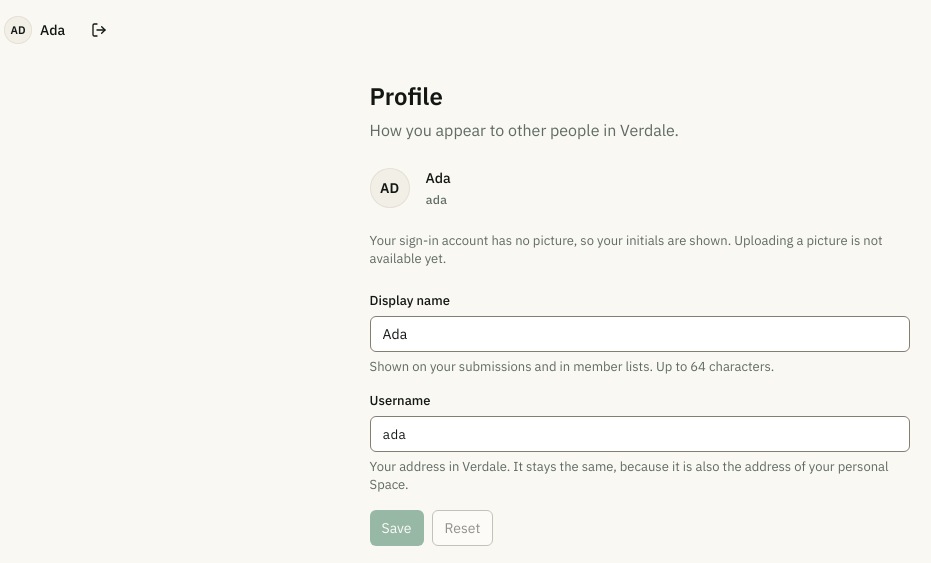
Test: profile settings (GRD-69) › says so when the rate limit is reached
Replace the text in the field labelled "Display name" with "Grace" at coordinates (640, 334), box left=370, top=316, right=910, bottom=352
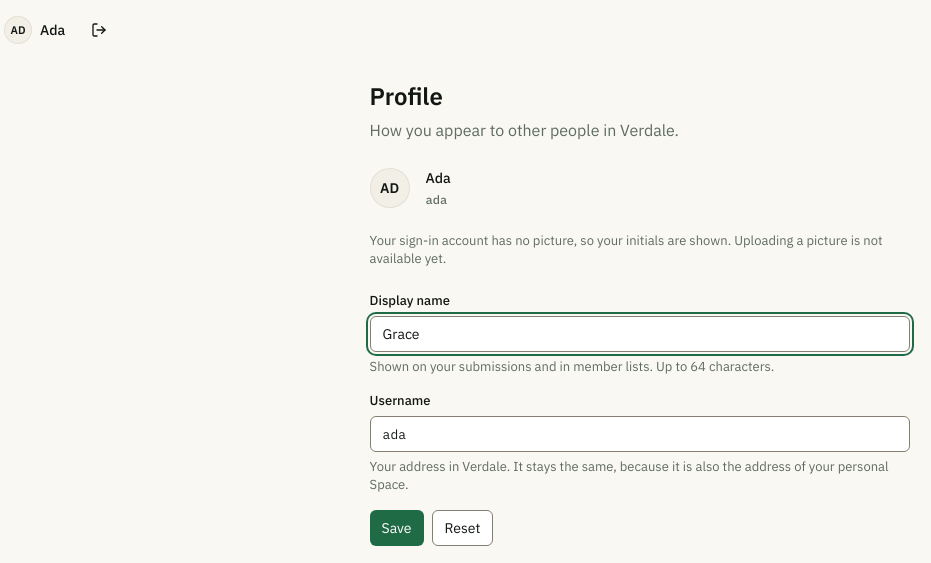
Click the button "Save".
click(397, 528)  # box left=370, top=510, right=424, bottom=546
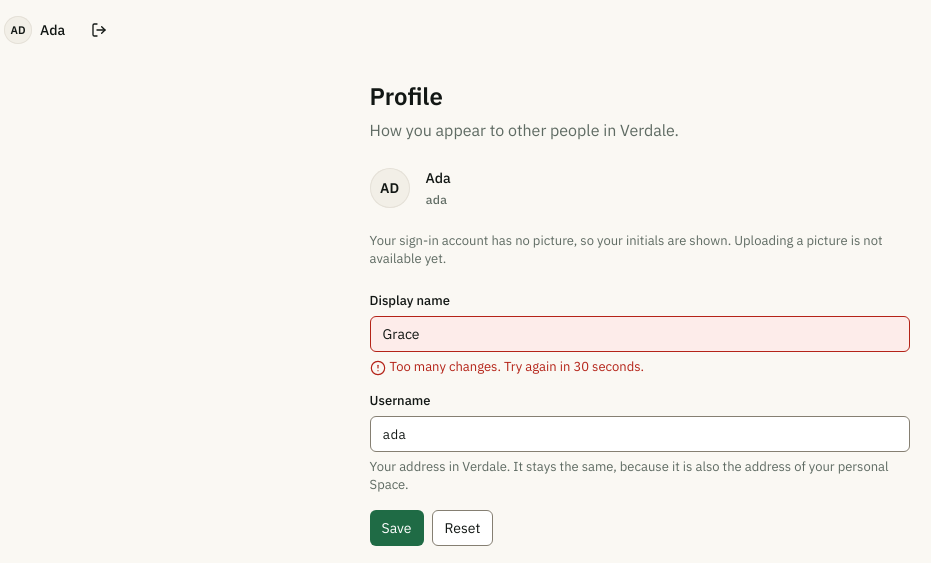
Expected: the text "Too many changes. Try again in 30 seconds." is shown, left=370, top=358, right=644, bottom=376
